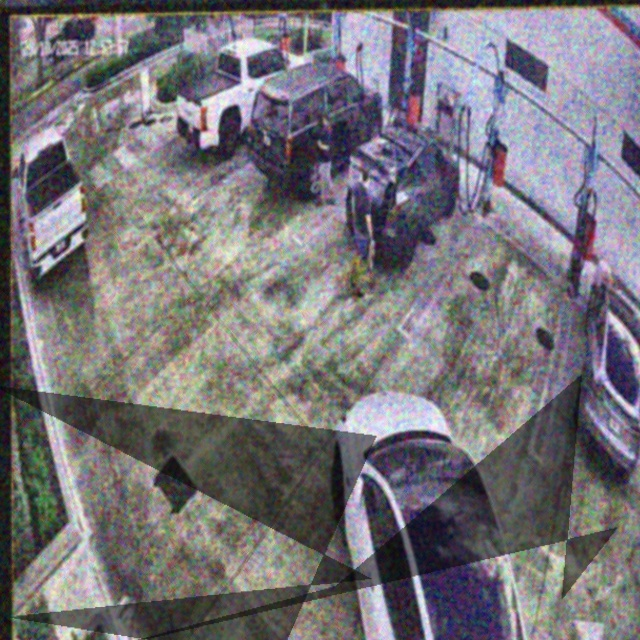Car: (329, 382, 537, 640), (248, 60, 383, 203), (346, 119, 457, 271)
